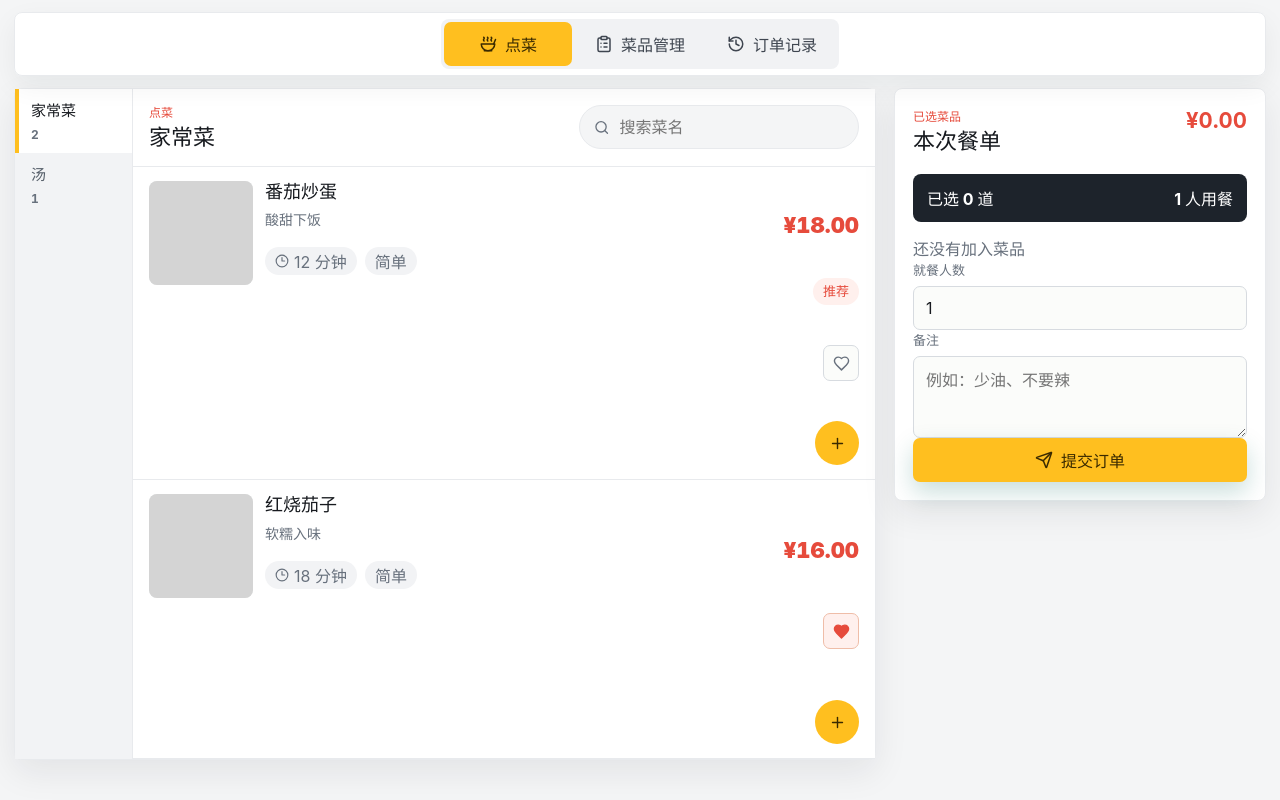
App › filters dishes from the real category rail
This screenshot has width=1280, height=800.
Expected: the text "番茄炒蛋" is shown, [265,180,337,202]
Expected: the text "红烧茄子" is shown, [265,494,337,515]
Click the button "汤 1". click: (74, 185)
box: [15,153,132,217]
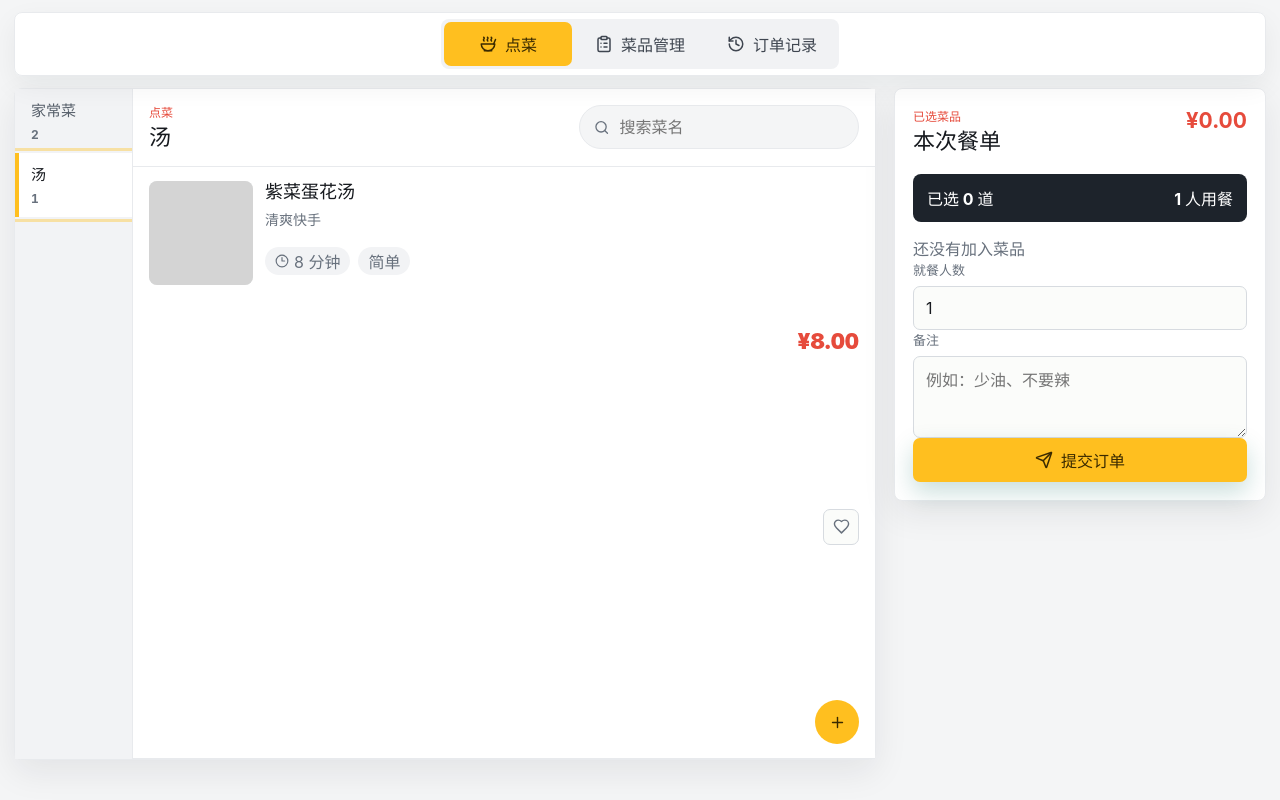
Now the button "番茄炒蛋" is gone
Now the button "红烧茄子" is gone
Now the text "紫菜蛋花汤" is shown, box [265,180,355,202]
